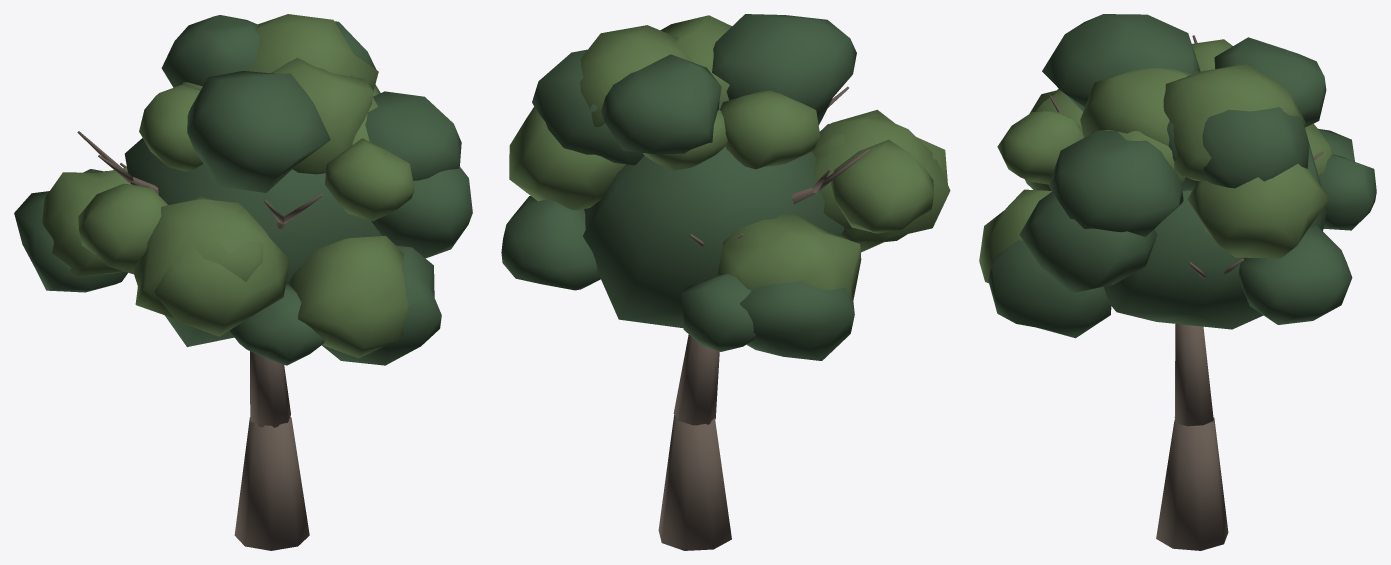
The model's file is node_tree_oak_1.glb.
The picture shows the model from 3 angles, left to right: view 1: azimuth 30°, elevation 25°; view 2: azimuth 150°, elevation 25°; view 3: azimuth 270°, elevation 25°; orthographic projection. The views are drawn at different scales.
Visible parts, largest first — view 1: blob.005, blob.008, blob.023, blob.016, cyl, blob.022, blob.011, blob.015, blob.012, blob.014, blob.006, blob.018 (+7 smaller); view 2: blob.023, blob.005, blob.013, blob.010, cyl, blob.007, blob.012, blob.003, blob.020, blob.004, blob.022, blob.021 (+6 smaller); view 3: blob.023, blob.011, blob.020, blob.005, blob.015, blob.003, cyl, blob.006, blob.021, blob.017, blob.018, blob.013 (+9 smaller).
Part boxes in pixels (<box>): blob.005: <box>187,71,330,192</box>; blob.008: <box>288,235,408,358</box>; blob.023: <box>124,138,381,346</box>; blob.016: <box>134,196,290,336</box>; cyl: <box>234,417,309,550</box>; blob.022: <box>135,199,267,318</box>; blob.011: <box>365,91,461,180</box>; blob.015: <box>371,166,472,258</box>; blob.012: <box>78,183,167,274</box>; blob.014: <box>325,138,414,221</box>; blob.006: <box>249,14,378,92</box>; blob.018: <box>271,57,372,174</box>; blob.023: <box>583,101,844,328</box>; blob.005: <box>712,14,856,125</box>; blob.013: <box>601,54,721,153</box>; blob.010: <box>717,214,861,300</box>; cyl: <box>658,415,731,550</box>; blob.007: <box>740,281,854,360</box>; blob.012: <box>830,139,933,233</box>; blob.003: <box>501,196,600,290</box>; blob.020: <box>509,107,625,210</box>; blob.004: <box>720,90,820,169</box>; blob.022: <box>814,115,950,252</box>; blob.021: <box>532,49,644,165</box>; blob.023: <box>1104,128,1327,329</box>; blob.011: <box>1049,130,1183,236</box>; blob.020: <box>1187,163,1329,258</box>; blob.005: <box>1042,14,1200,111</box>; blob.015: <box>1019,192,1157,293</box>; blob.003: <box>1238,225,1352,324</box>; cyl: <box>1156,417,1228,550</box>; blob.006: <box>1163,64,1306,180</box>; blob.021: <box>1202,107,1309,188</box>; blob.017: <box>988,240,1111,338</box>; blob.018: <box>1080,68,1198,146</box>; blob.013: <box>1214,37,1326,127</box>.
Bounding box in the file's own units: 6.15 × 8.24 × 6.06.
